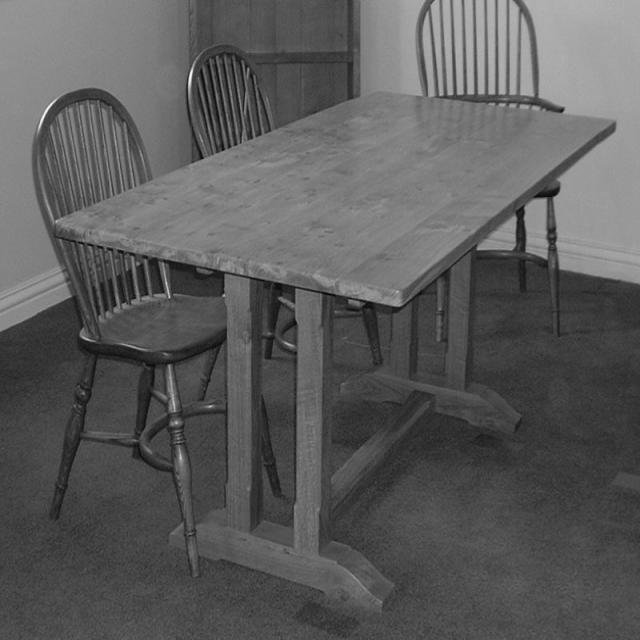chair: (32, 90, 284, 577), (183, 39, 384, 400), (413, 0, 566, 345)
table: (58, 91, 620, 613)
